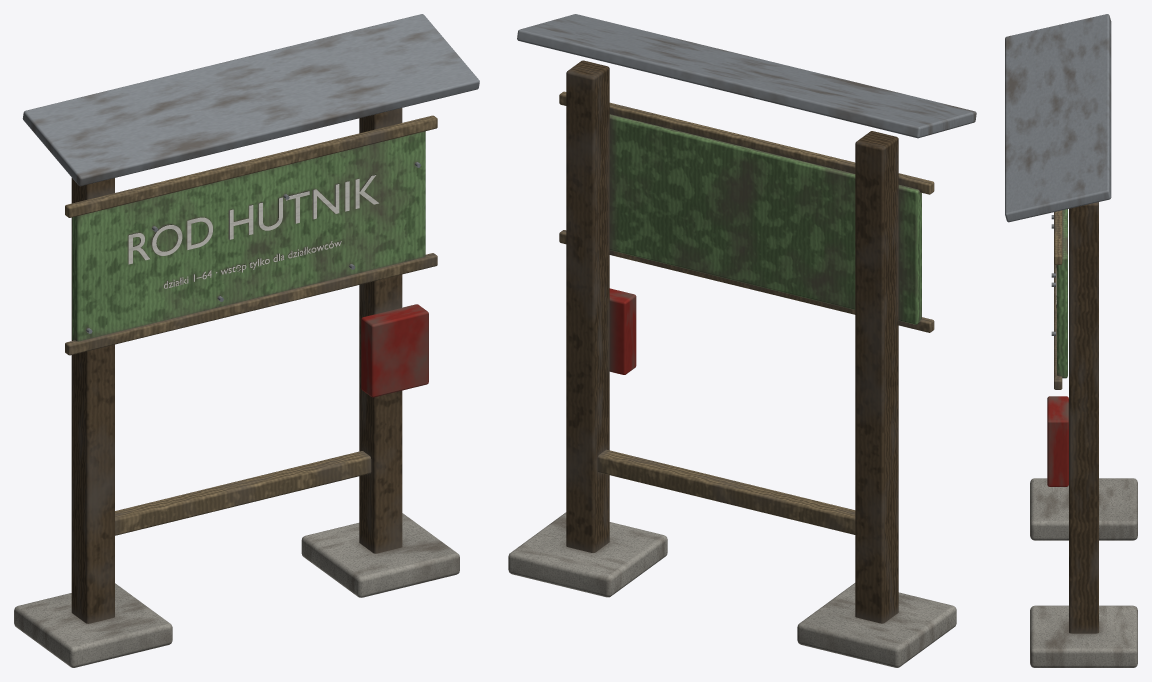
Rendered from rod_tablica.glb.
3 renders of one model, left to right at view 1: azimuth 30°, elevation 25°; view 2: azimuth 150°, elevation 25°; view 3: azimuth 270°, elevation 25°, orthographic. The views are drawn at different scales.
Parts seen in each view (by area): view 1: Tablica, Napisy; view 2: Tablica; view 3: Tablica.
Boxes of the visible parts, x1,y1,x2,y2 form: Tablica: [14, 14, 479, 667]; Napisy: [128, 174, 378, 288]; Tablica: [508, 14, 976, 667]; Tablica: [1005, 14, 1137, 667].
Size of the model in its own units: 1.95 by 2.46 by 0.6162.
Materials: 2 (2 with a texture image).
